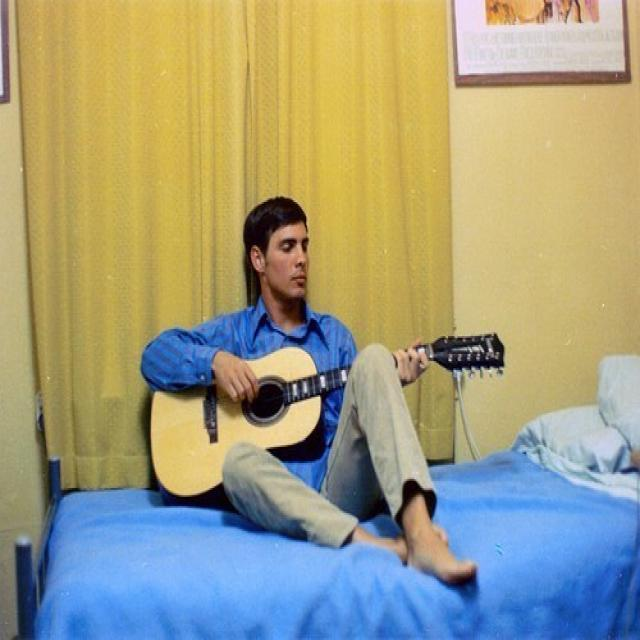guitar: (147, 330, 509, 495)
